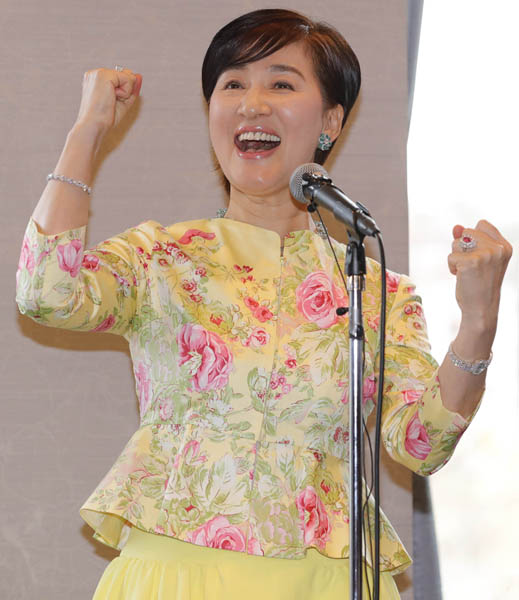face: (209, 39, 347, 195)
hand: (447, 218, 515, 317), (70, 65, 145, 151)
